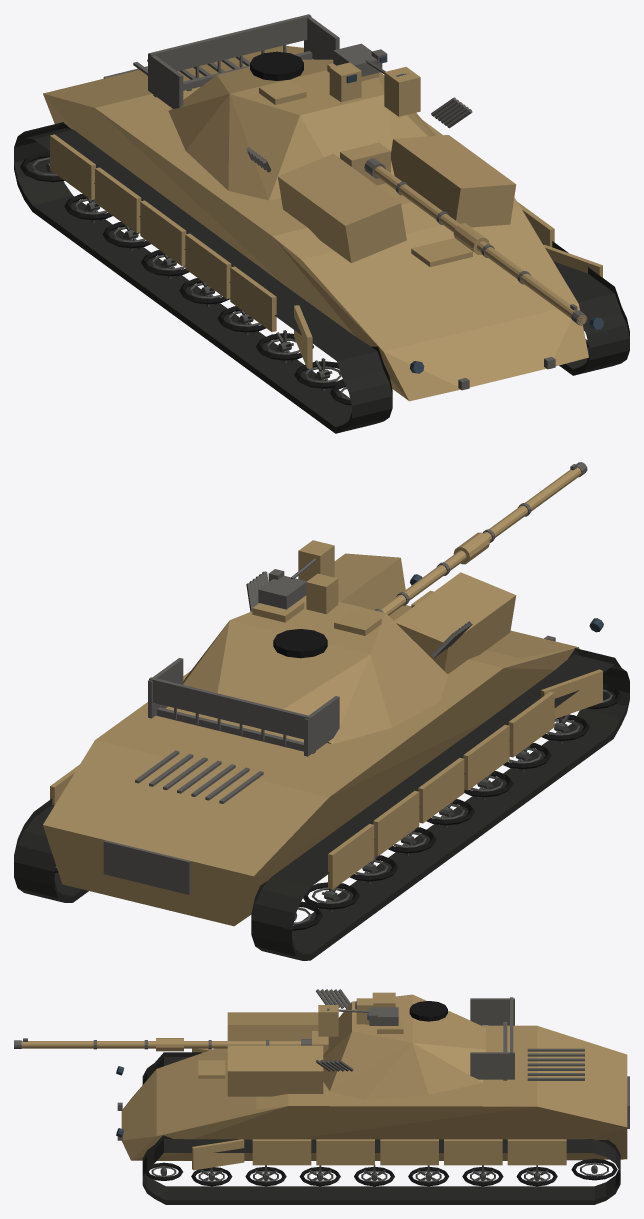
Rendered from halberd_sepv3.glb.
The picture shows the model from 3 angles, top to bottom: view 1: azimuth 30°, elevation 25°; view 2: azimuth 150°, elevation 25°; view 3: azimuth 270°, elevation 25°; orthographic projection. The views are drawn at different scales.
Visible parts, largest first — view 1: Hull, Turret, BarrelMesh; view 2: Hull, Turret, BarrelMesh; view 3: Hull, Turret, BarrelMesh.
Boxes of the visible parts, x1,y1,x2,y2 form: Hull: [14, 45, 629, 433]; Turret: [148, 14, 516, 262]; BarrelMesh: [364, 158, 587, 325]; Hull: [14, 574, 629, 960]; Turret: [148, 540, 516, 756]; BarrelMesh: [374, 462, 587, 615]; Hull: [116, 1025, 629, 1204]; Turret: [227, 989, 514, 1100]; BarrelMesh: [14, 1038, 311, 1051].
Bounding box in the file's own units: 0.947 × 0.705 × 2.41.
